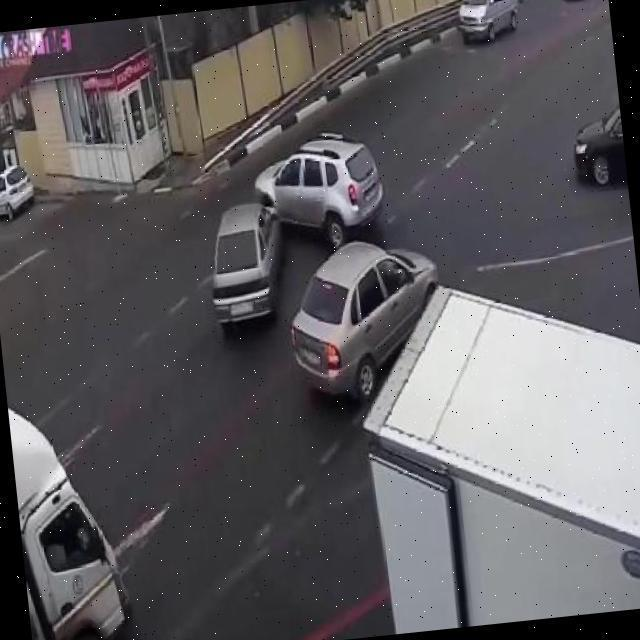accident: (197, 126, 396, 325)
